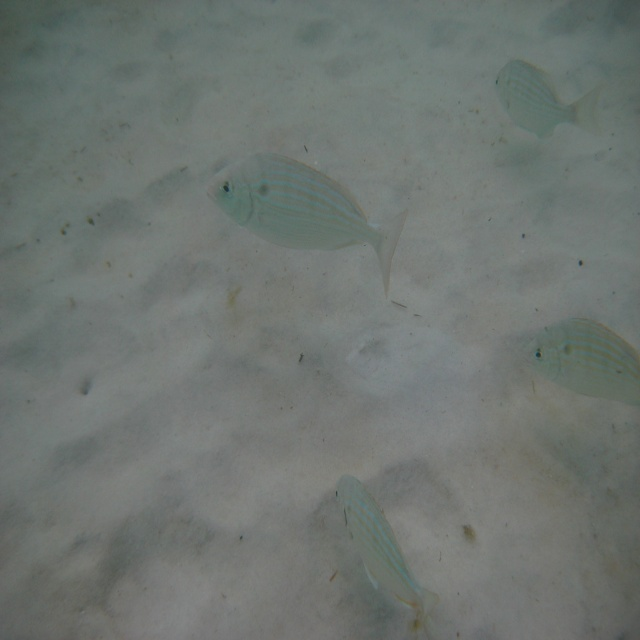Fish: (205, 152, 407, 300), (335, 470, 440, 640), (523, 318, 640, 406), (492, 57, 608, 142)
